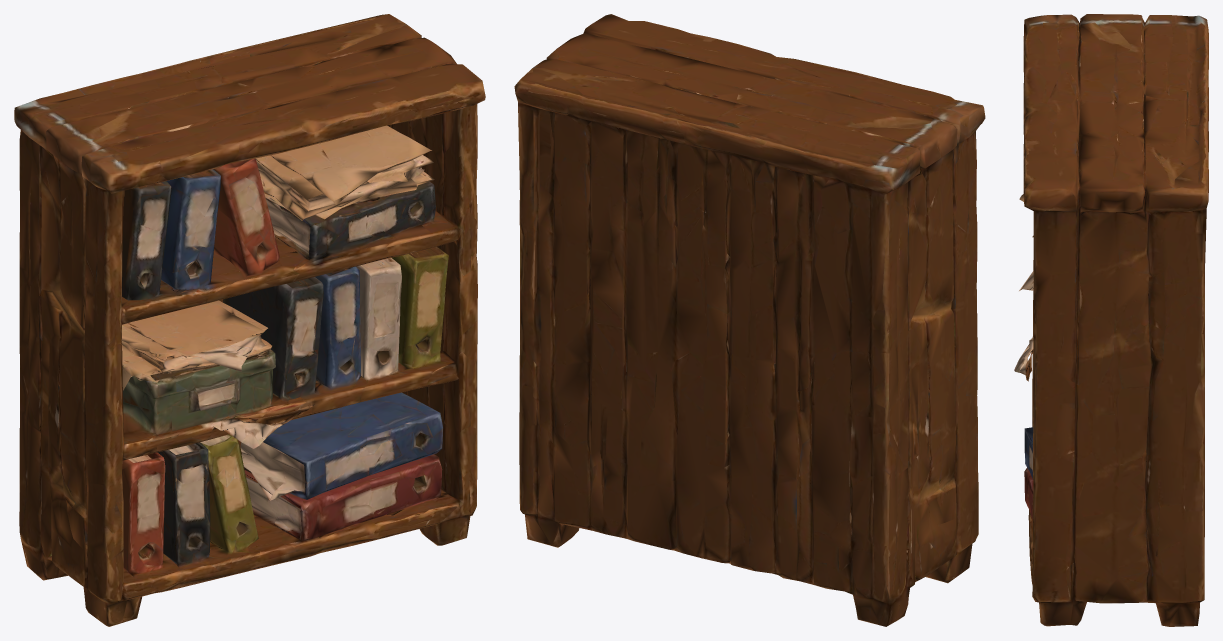
The model's file is d_office_shelf.glb.
The picture shows the model from 3 angles, left to right: view 1: azimuth 30°, elevation 25°; view 2: azimuth 150°, elevation 25°; view 3: azimuth 270°, elevation 25°; orthographic projection. The views are drawn at different scales.
Bounding box in the file's own units: 1.63 × 1.9 × 0.7585.
Materials: 1 (1 with a texture image).
